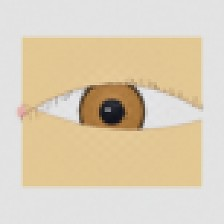pinguecula_lesion: (44, 97, 91, 134)
